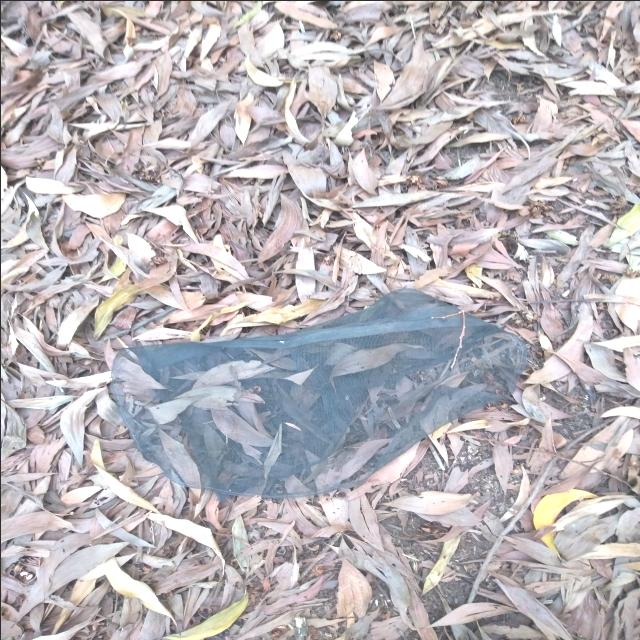Rope - strings: (108, 288, 525, 502)
